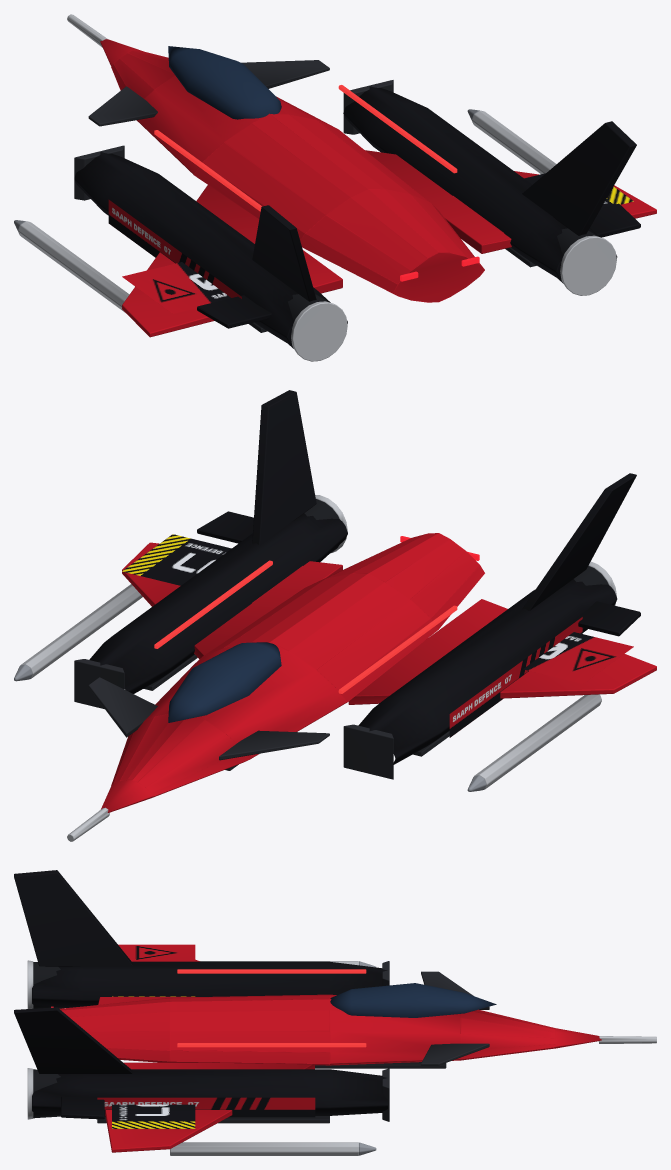
File: craft_1.glb
3 views of the same model, one above another, from view 1: azimuth 30°, elevation 25°; view 2: azimuth 150°, elevation 25°; view 3: azimuth 270°, elevation 25° (orthographic). The views are drawn at different scales.
Visible parts, largest first — view 1: craft_1_body, craft_1_canopy, craft_1_livery_L, craft_1_hull_L, flap_L_plate.001, flap_R_plate.001, craft_1_livery_R; view 2: craft_1_body, craft_1_canopy, craft_1_livery_R, craft_1_livery_L, craft_1_hull_L, flap_L_plate.001, flap_R_plate.001; view 3: craft_1_body, craft_1_canopy, craft_1_hull_R, craft_1_livery_R, craft_1_livery_L, flap_R_plate.001.
Part boxes in pixels (x1,y1,x2,y2): craft_1_body: (14, 14, 656, 361); craft_1_canopy: (168, 46, 281, 119); craft_1_livery_L: (122, 262, 230, 313); craft_1_hull_L: (108, 199, 241, 298); flap_L_plate.001: (197, 295, 271, 328); flap_R_plate.001: (590, 203, 640, 237); craft_1_livery_R: (453, 173, 633, 233); craft_1_body: (14, 390, 656, 841); craft_1_canopy: (168, 642, 281, 722); craft_1_livery_R: (122, 534, 302, 603); craft_1_livery_L: (523, 632, 633, 683); craft_1_hull_L: (449, 617, 582, 737); flap_L_plate.001: (573, 601, 640, 636); flap_R_plate.001: (197, 511, 253, 543); craft_1_body: (14, 870, 656, 1155); craft_1_canopy: (330, 983, 496, 1017); craft_1_hull_R: (97, 1097, 315, 1117); craft_1_livery_R: (112, 1104, 195, 1128); craft_1_livery_L: (112, 944, 195, 996); flap_R_plate.001: (61, 1096, 104, 1119).
Size of the model in its own units: 6.6 by 1.9 by 8.85.
11 materials, 2 textured.
